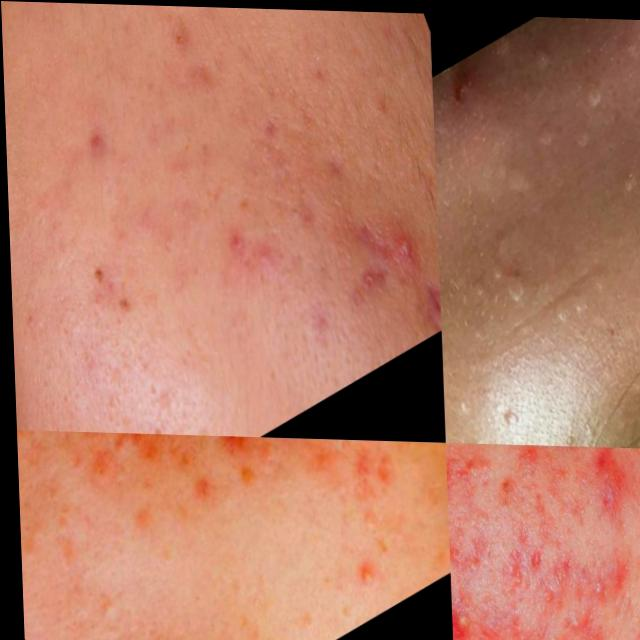8: (376, 198, 436, 275), (431, 52, 486, 125), (537, 441, 588, 465)
9: (551, 595, 589, 640), (445, 592, 474, 640)
blackheads: (560, 521, 640, 622), (443, 506, 501, 599), (572, 442, 640, 511), (337, 247, 392, 318), (487, 539, 531, 602), (204, 433, 256, 477), (502, 606, 566, 640), (514, 531, 551, 580), (414, 253, 438, 320), (65, 430, 112, 457)
dark spot: (347, 547, 381, 600)
